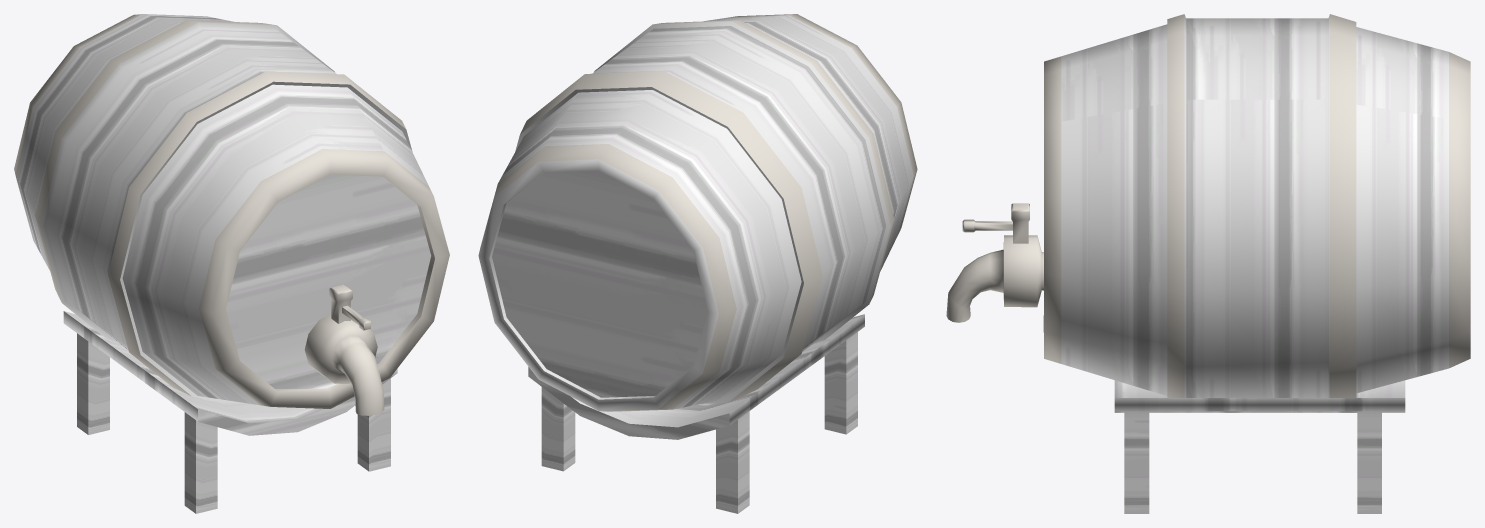
The model's file is Keg (1).fbx.
The picture shows the model from 3 angles, left to right: view 1: azimuth 30°, elevation 25°; view 2: azimuth 150°, elevation 25°; view 3: azimuth 270°, elevation 25°; orthographic projection. The views are drawn at different scales.
Visible parts, largest first — view 1: Keg (1); view 2: Keg (1); view 3: Keg (1).
Boxes of the visible parts, x1,y1,x2,y2 form: Keg (1): [14, 14, 449, 513]; Keg (1): [478, 14, 917, 513]; Keg (1): [946, 14, 1470, 513].
Size of the model in its own units: 0.591 by 0.7134 by 0.7864.
Materials: 2 (1 with a texture image).
